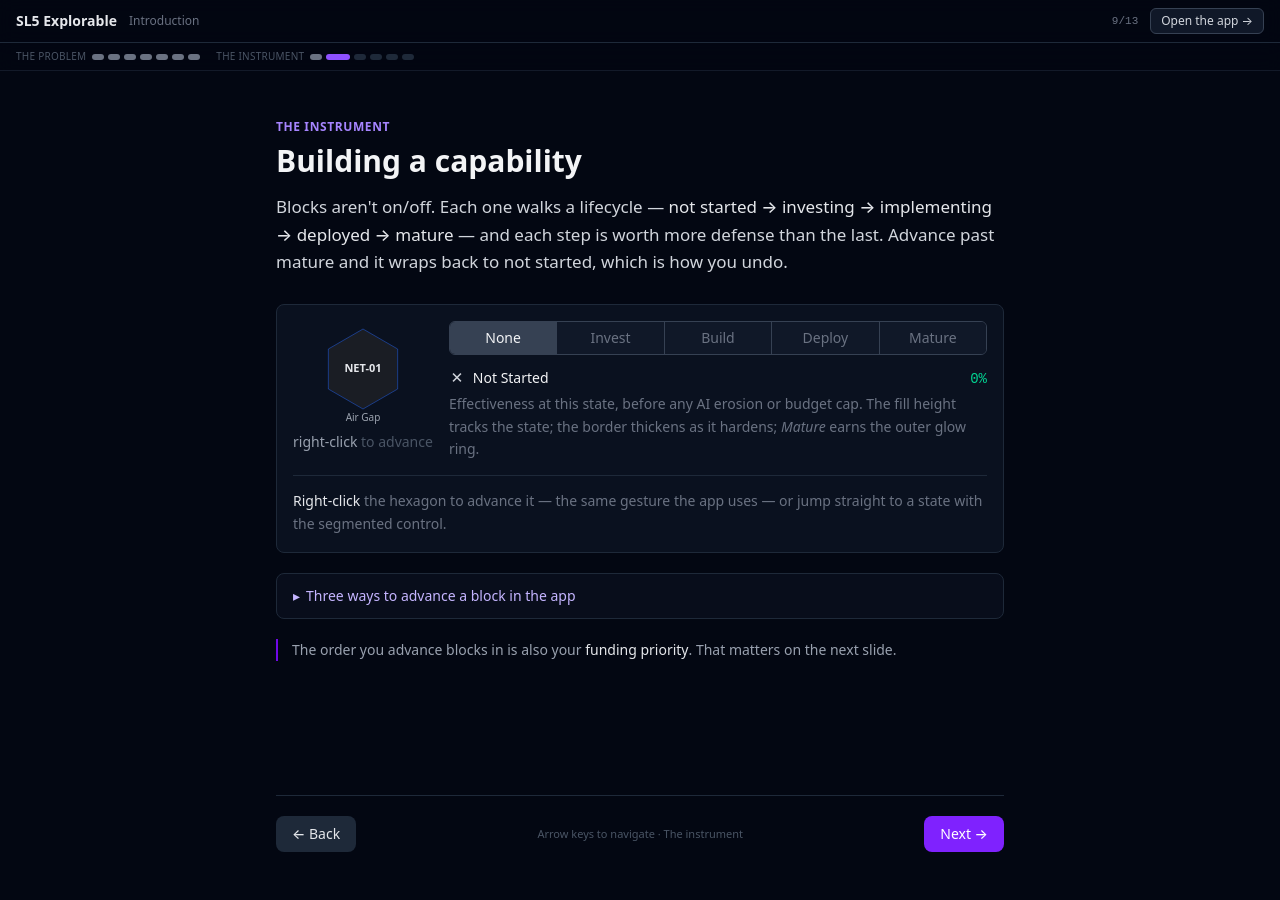
it: the demos respond › the segmented control jumps to a state directly, including backwards
Click the button labelled "Mature": (933, 338) [880,322,986,354]
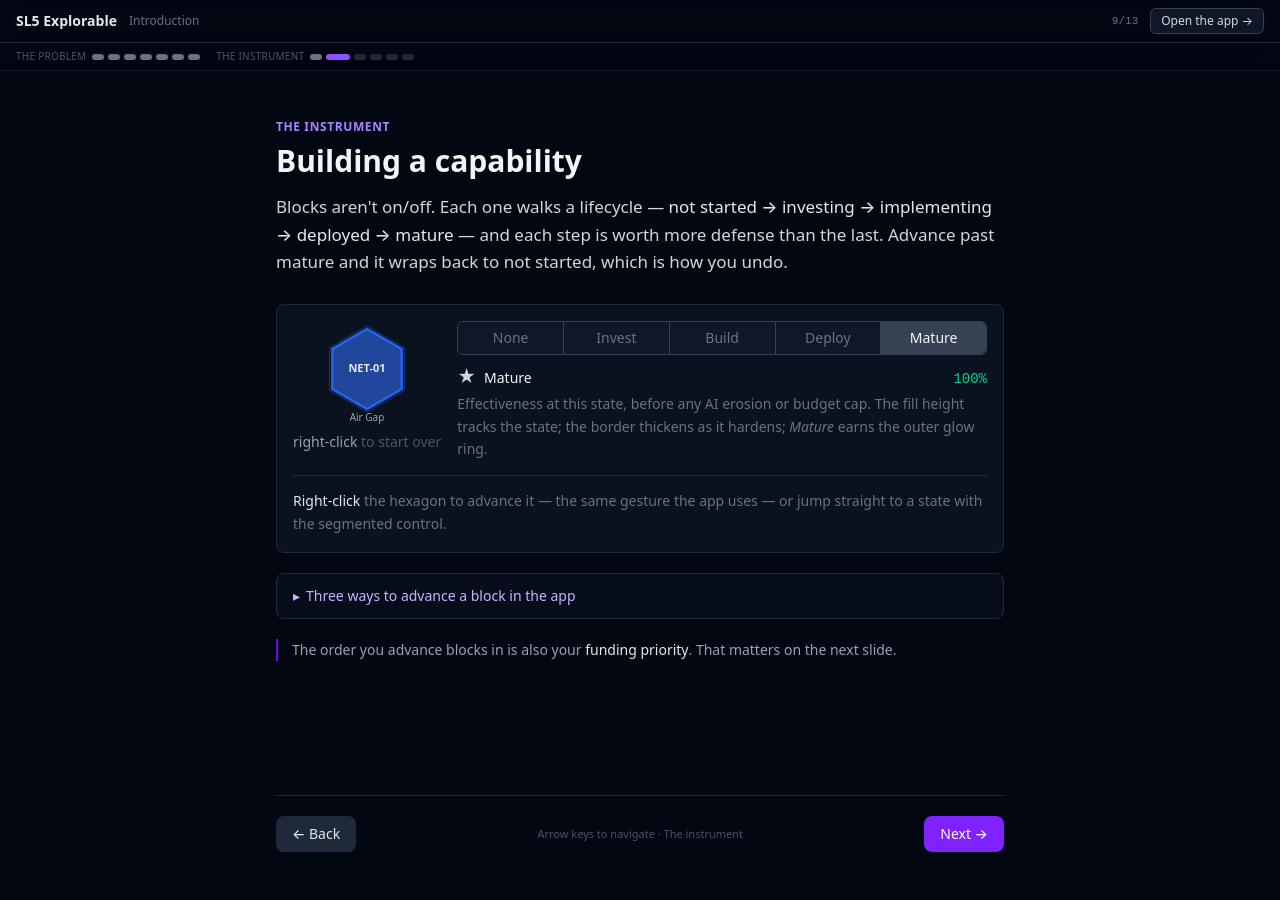
Result: the text "100%" is shown at [953,369,987,389]
Click the button with aria-label "Investing": (617, 338) [564,322,670,354]
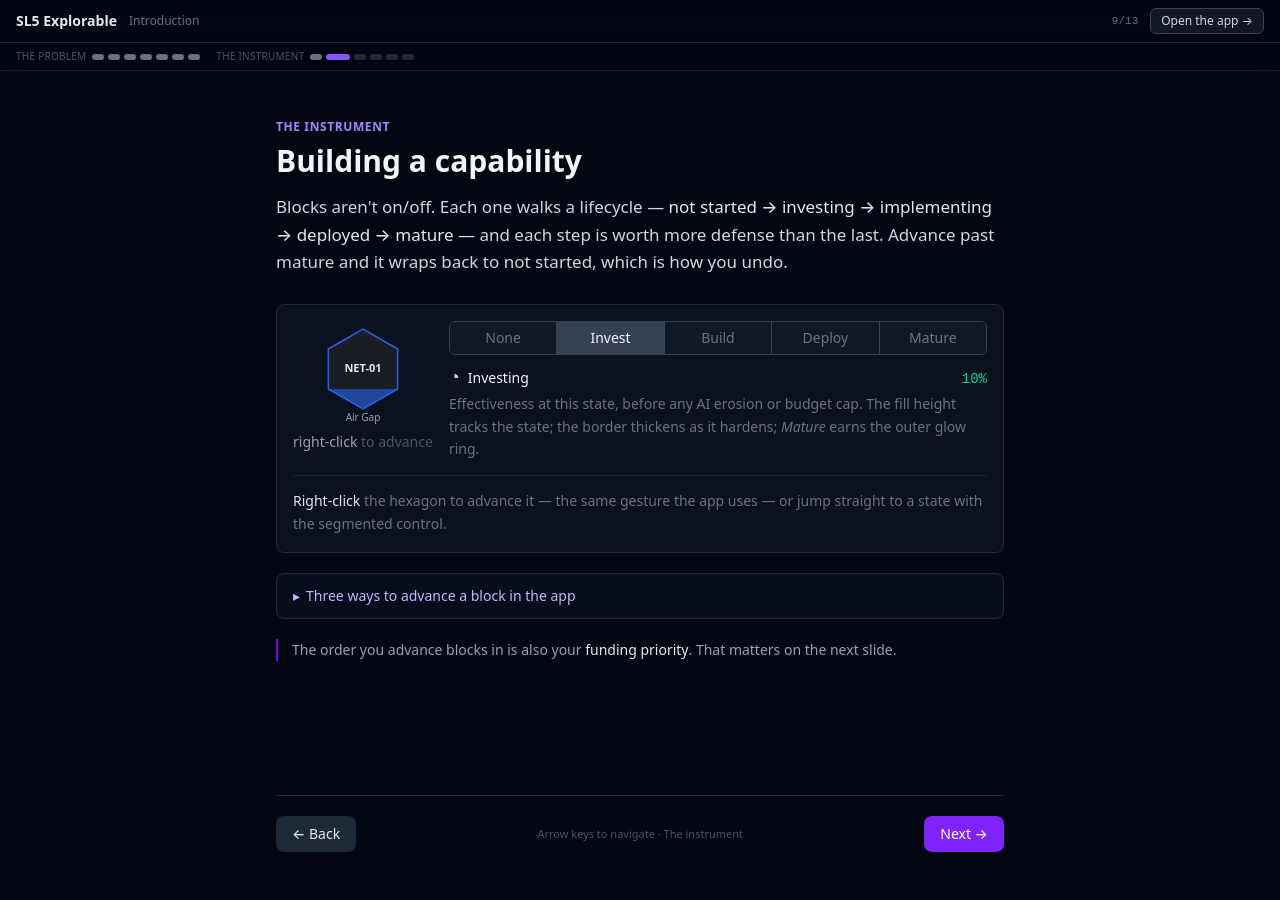
Result: the text "10%" is shown at [962,369,987,389]
